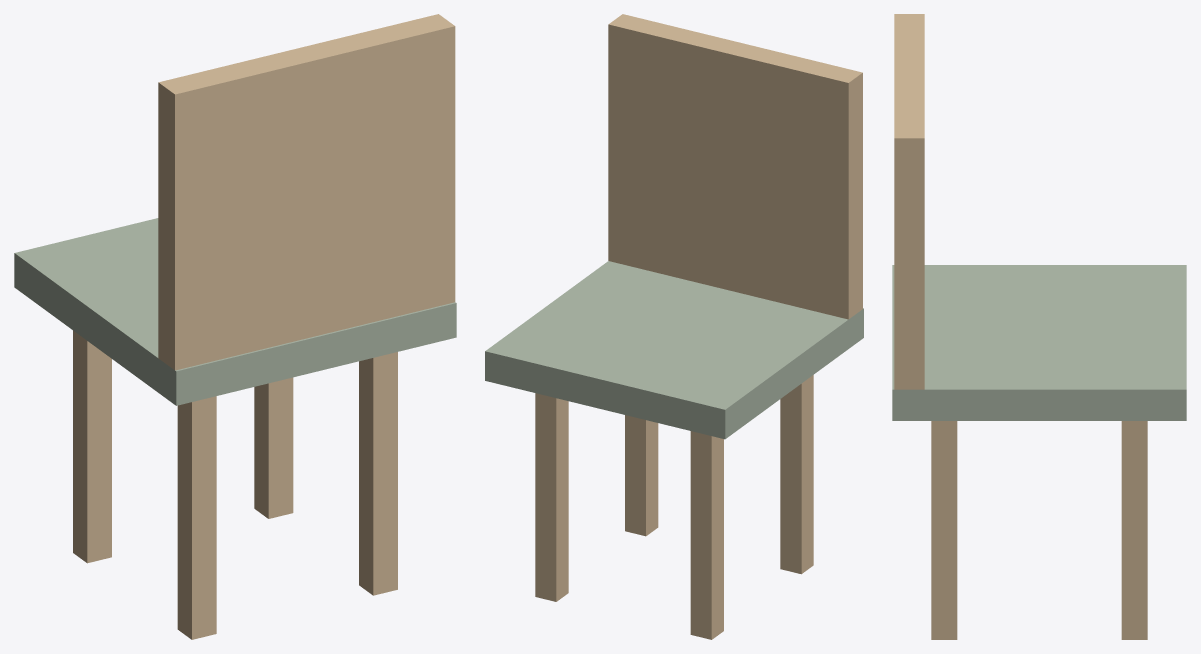
Rendered from child-chair.glb.
The picture shows the model from 3 angles, left to right: view 1: azimuth 30°, elevation 25°; view 2: azimuth 150°, elevation 25°; view 3: azimuth 270°, elevation 25°; orthographic projection. The views are drawn at different scales.
Parts seen in each view (by area): view 1: root; view 2: root; view 3: root.
Part boxes in pixels (x1,y1,x2,y2): root: [14, 14, 456, 639]; root: [485, 14, 863, 639]; root: [892, 14, 1186, 639].
Size of the model in its own units: 0.34 by 0.66 by 0.34.
